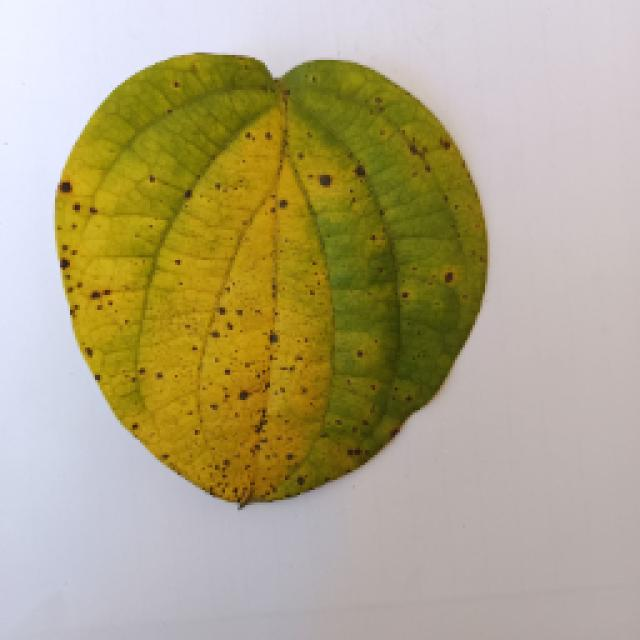slow-decline: (48, 50, 500, 505)
